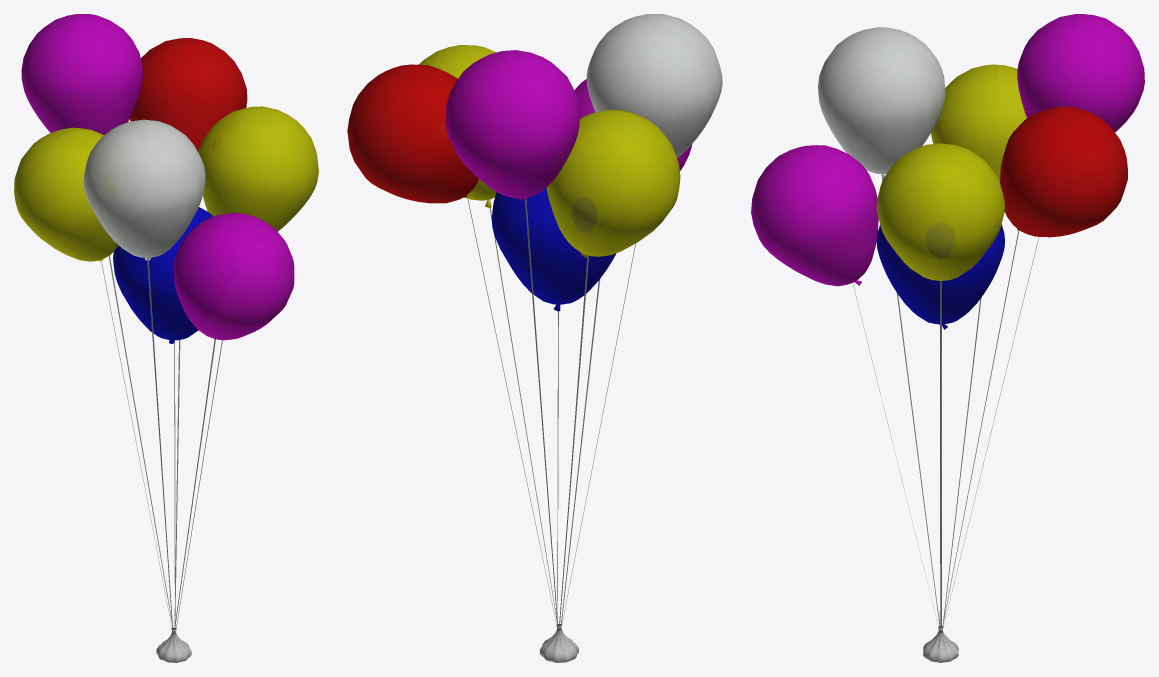
Rendered from tablebaloons_reference_003.fbx.
The picture shows the model from 3 angles, left to right: view 1: azimuth 30°, elevation 25°; view 2: azimuth 150°, elevation 25°; view 3: azimuth 270°, elevation 25°; orthographic projection. The views are drawn at different scales.
Parts seen in each view (by area): view 1: tablebaloons_reference.003; view 2: tablebaloons_reference.003; view 3: tablebaloons_reference.003.
Boxes of the visible parts, x1,y1,x2,y2 form: tablebaloons_reference.003: (14, 14, 318, 662); tablebaloons_reference.003: (347, 14, 722, 662); tablebaloons_reference.003: (751, 14, 1144, 662).
Bounding box in the file's own units: 92.34 × 200 × 114.
